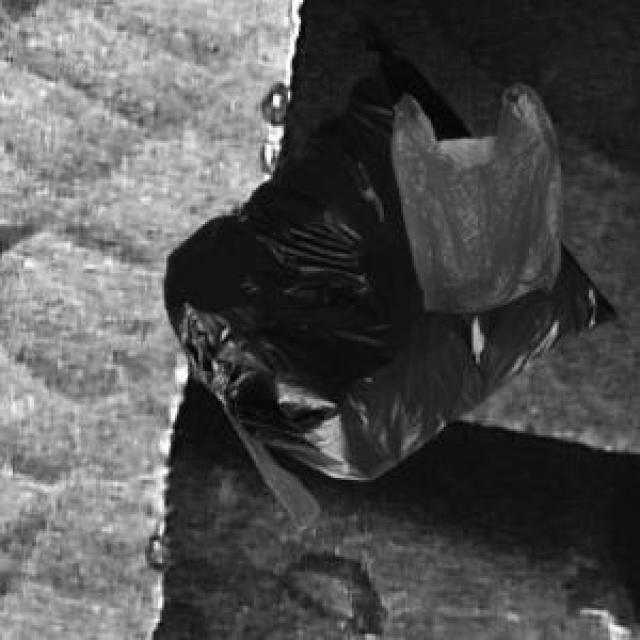miscellaneous trash: (160, 13, 617, 527)
